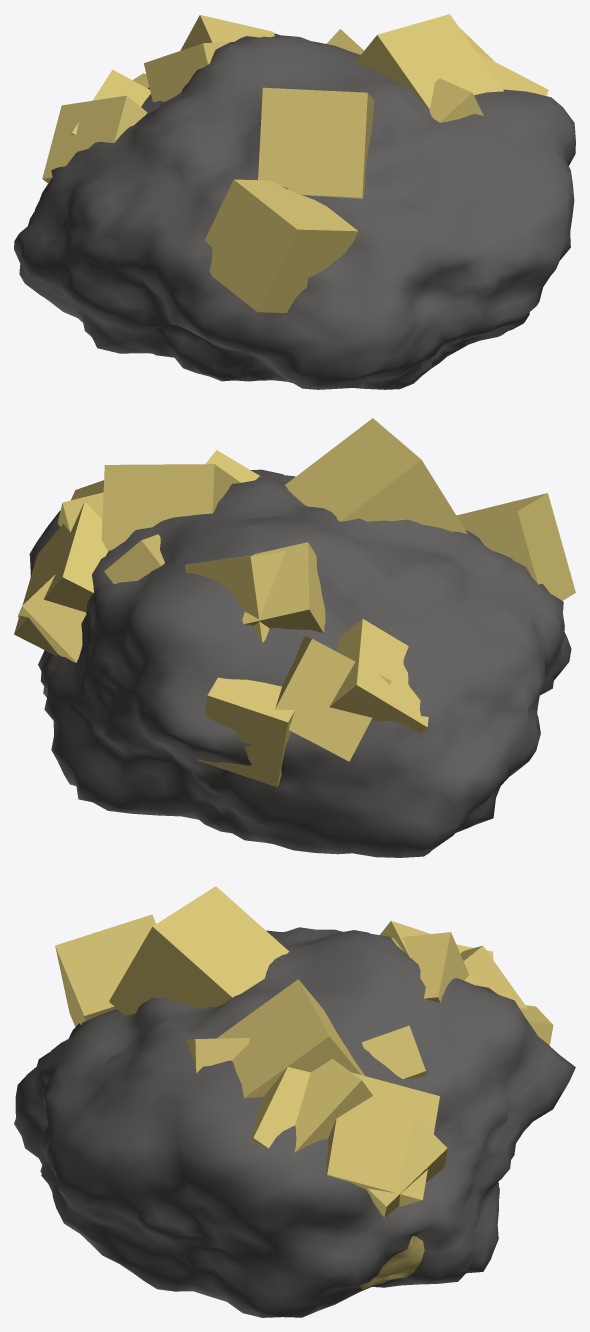
File: pyrite_deep.glb
The picture shows the model from 3 angles, top to bottom: view 1: azimuth 30°, elevation 25°; view 2: azimuth 150°, elevation 25°; view 3: azimuth 270°, elevation 25°; orthographic projection. The views are drawn at different scales.
Visible parts, largest first — view 1: pyrite_deep; view 2: pyrite_deep; view 3: pyrite_deep.
Boxes of the visible parts, x1,y1,x2,y2 form: pyrite_deep: (14,14,575,389); pyrite_deep: (14,418,575,857); pyrite_deep: (14,886,575,1317).
Size of the model in its own units: 2.18 by 1.18 by 2.1.
